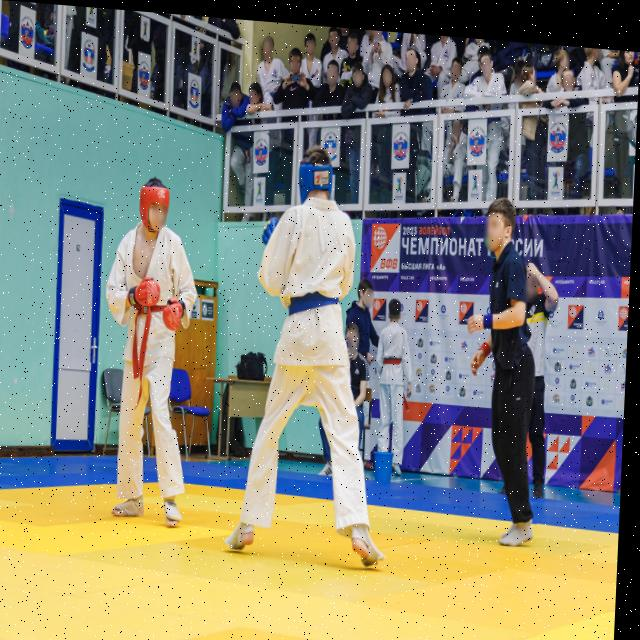Person: (244, 134, 391, 564), (103, 164, 211, 547), (461, 184, 555, 553), (521, 248, 565, 502), (376, 289, 420, 493), (339, 315, 376, 447), (435, 104, 468, 201), (283, 40, 311, 116), (258, 28, 284, 106), (354, 265, 378, 348), (341, 55, 372, 114), (320, 53, 348, 114), (374, 58, 400, 113), (401, 42, 428, 93), (244, 74, 271, 122), (219, 76, 247, 120), (476, 43, 500, 90), (444, 49, 467, 91), (303, 23, 317, 85), (344, 25, 361, 62), (329, 21, 343, 56), (563, 59, 578, 86)
